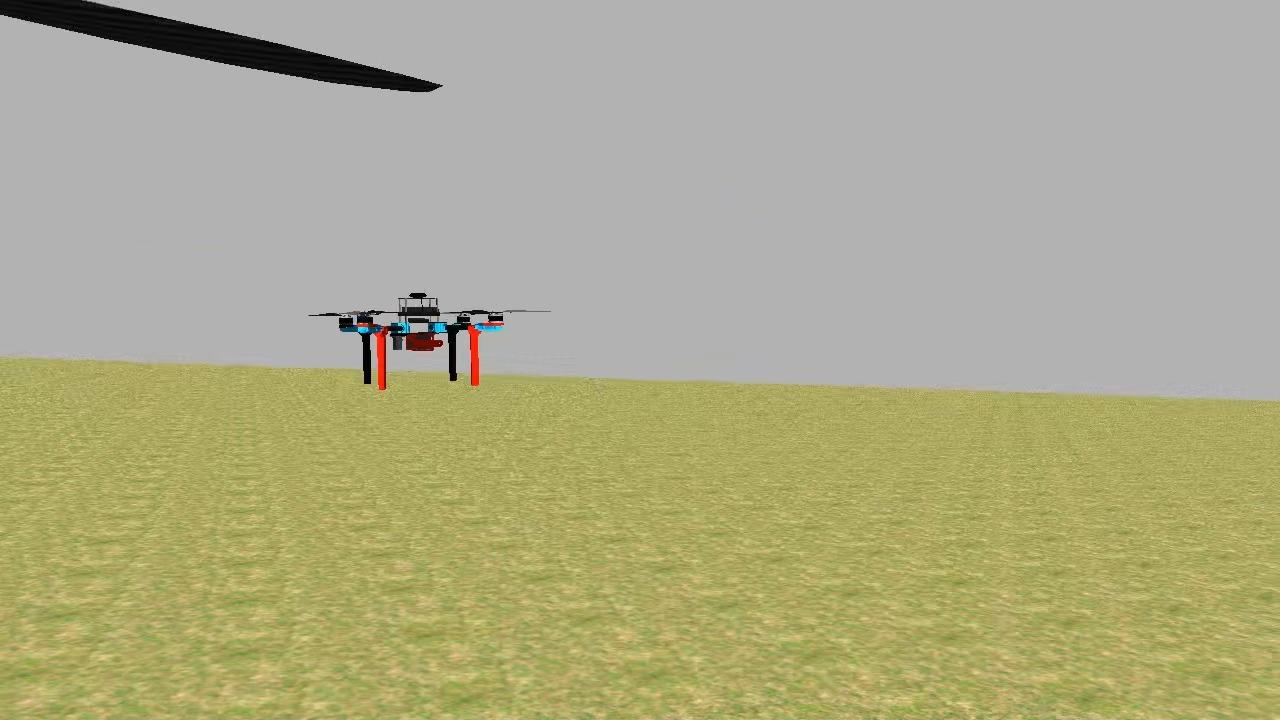UAV: (331, 284, 510, 397)
